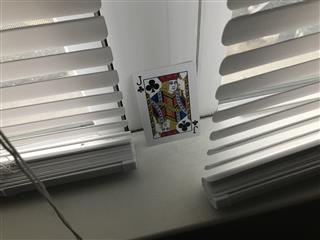JackOfClubs: (132, 60, 200, 146)
